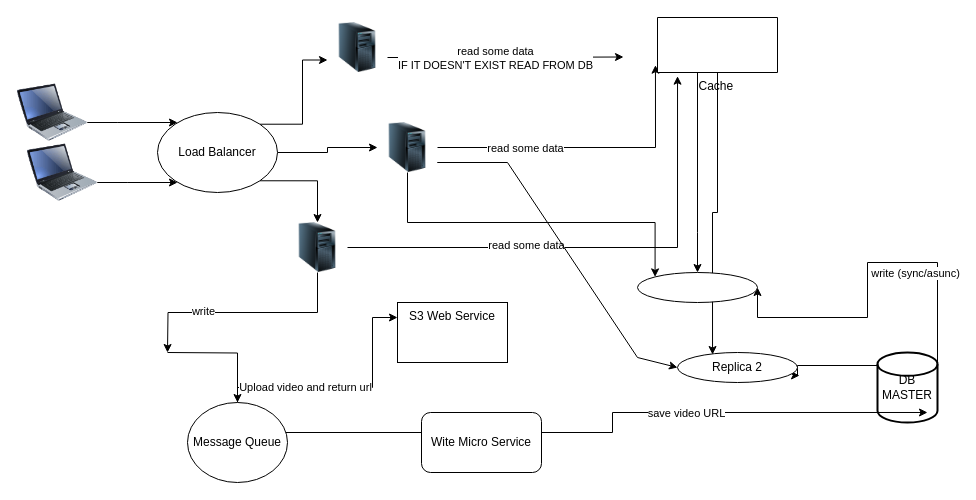
Some shapes in this 976 by 500 pixel diagram are drawn without their labels. Each missing label, with the centre of its shape:
"Replica 1" belongs at [697,287].
"Web Server 1" belongs at [357,47].
"Web Server 2" belongs at [407,147].
"Web Server 3" belongs at [317,247].
